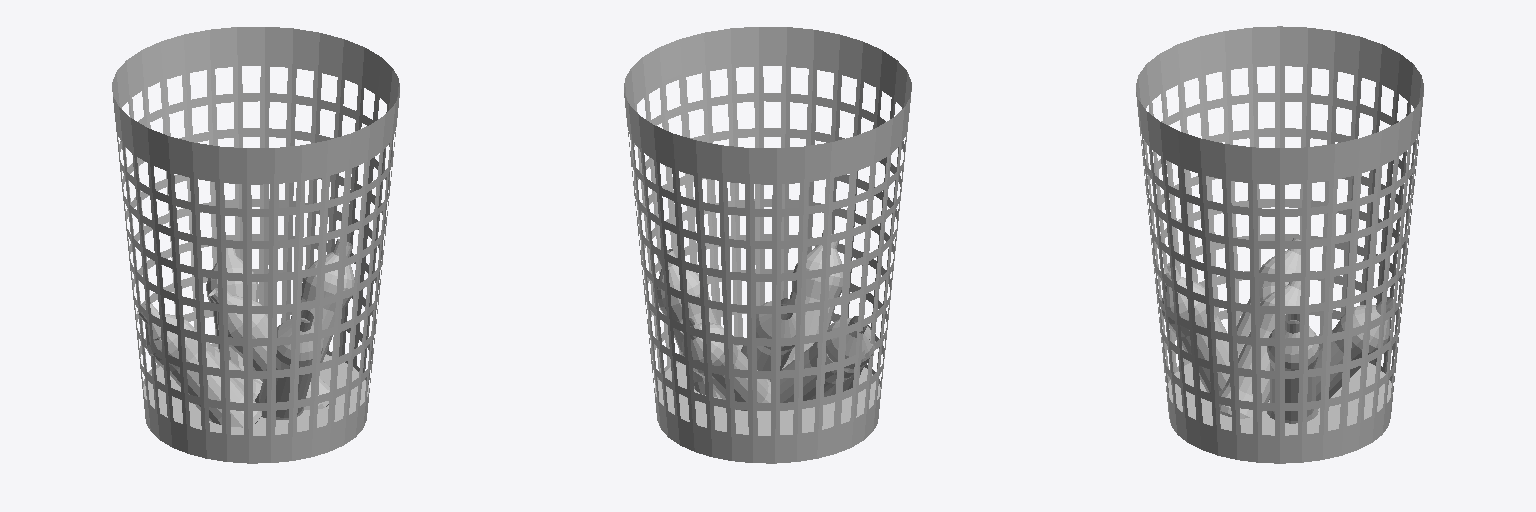
File: DustbinWithCan_000049.obj
3 renders of one model, left to right at view 1: azimuth 30°, elevation 25°; view 2: azimuth 150°, elevation 25°; view 3: azimuth 270°, elevation 25°, orthographic.
Parts seen in each view (by area): view 1: Cylinder, Plane.005, Plane.001, Plane.004, Plane.003, Plane.002; view 2: Cylinder, Plane.002, Plane.001, Plane.003, Plane.004, Plane.006, Plane.005; view 3: Cylinder, Plane.001, Plane.004, Plane.003, Plane.002, Plane.005.
Boxes of the visible parts, x1=… form: Cylinder: x1=112, y1=27, x2=399, y2=463; Plane.005: x1=137, y1=302, x2=261, y2=427; Plane.001: x1=255, y1=310, x2=322, y2=419; Plane.004: x1=209, y1=287, x2=329, y2=409; Plane.003: x1=291, y1=239, x2=354, y2=362; Plane.002: x1=206, y1=248, x2=262, y2=382; Cylinder: x1=624, y1=27, x2=911, y2=463; Plane.002: x1=680, y1=318, x2=770, y2=410; Plane.001: x1=782, y1=233, x2=842, y2=368; Plane.003: x1=657, y1=249, x2=720, y2=397; Plane.004: x1=741, y1=298, x2=795, y2=370; Plane.006: x1=768, y1=325, x2=871, y2=402; Plane.005: x1=824, y1=316, x2=875, y2=396; Cylinder: x1=1136, y1=26, x2=1423, y2=463; Plane.001: x1=1161, y1=266, x2=1238, y2=393; Plane.004: x1=1219, y1=281, x2=1300, y2=418; Plane.003: x1=1267, y1=314, x2=1319, y2=423; Plane.002: x1=1316, y1=297, x2=1396, y2=400; Plane.005: x1=1237, y1=238, x2=1300, y2=354.
Bounding box in the file's own units: 2.6 × 3.35 × 2.6.